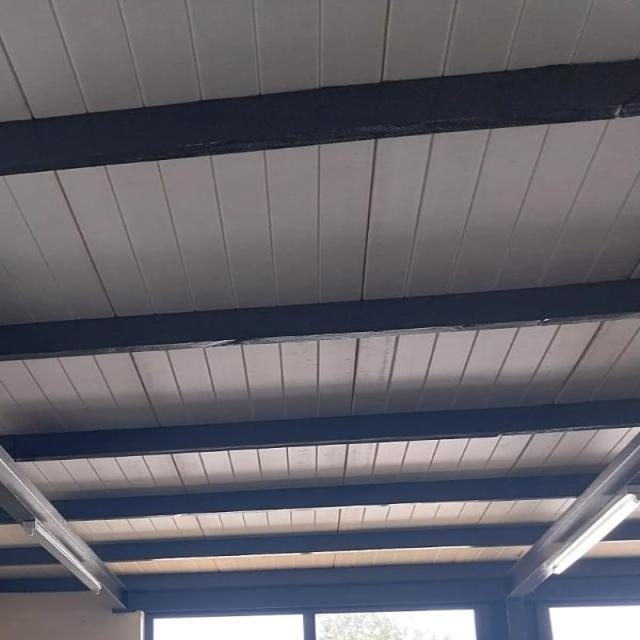fluorescent tube: (0, 508, 139, 616), (522, 486, 640, 594)
